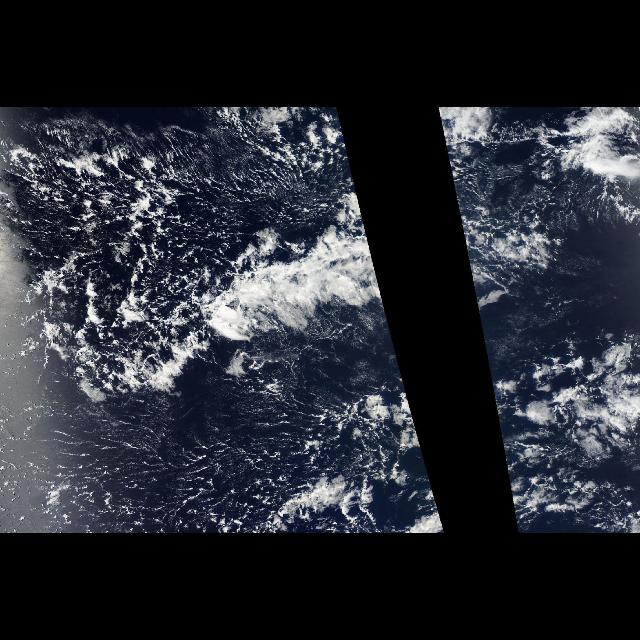Fish: (186, 202, 400, 358), (456, 202, 582, 358)
Gravel: (1, 108, 430, 524)
Sugar: (8, 402, 270, 528)
